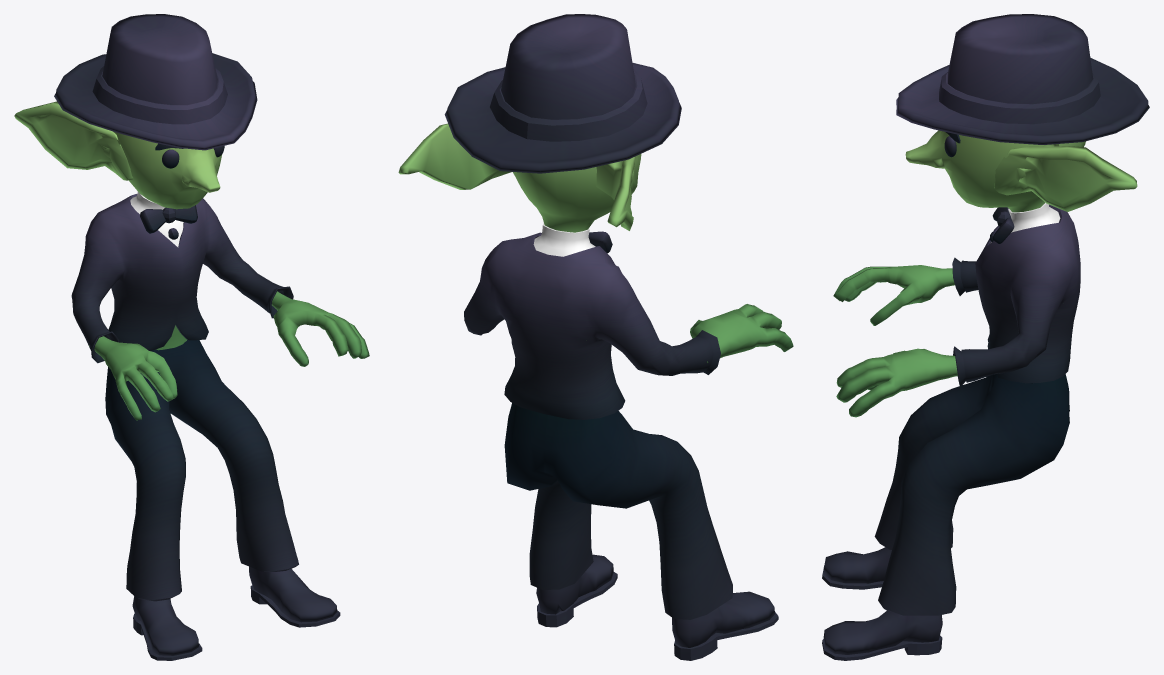
File: Goblin_M_Sitting_Mesh.fbx
The picture shows the model from 3 angles, left to right: view 1: azimuth 30°, elevation 25°; view 2: azimuth 150°, elevation 25°; view 3: azimuth 270°, elevation 25°; orthographic projection. The views are drawn at different scales.
Parts seen in each view (by area): view 1: GoblinM_Legs, GoblinM_Fedora, GoblinM_SuitJacket, GoblinM_Torso, GoblingM_ShoeL, GoblingM_ShoeR, GoblinM_Tie, GoblinM_Undershirt; view 2: GoblinM_Legs, GoblinM_Fedora, GoblinM_SuitJacket, GoblinM_Torso, GoblingM_ShoeR, GoblingM_ShoeL, GoblinM_Undershirt; view 3: GoblinM_Legs, GoblinM_Fedora, GoblinM_Torso, GoblinM_SuitJacket, GoblingM_ShoeL, GoblingM_ShoeR, GoblinM_Undershirt, GoblinM_Tie.
Part boxes in pixels (x1,y1,x2,y2): GoblinM_Legs: (105, 339, 298, 601); GoblinM_Fedora: (54, 14, 257, 150); GoblinM_SuitJacket: (71, 194, 293, 363); GoblinM_Torso: (14, 101, 369, 420); GoblingM_ShoeL: (249, 566, 340, 627); GoblingM_ShoeR: (132, 596, 202, 660); GoblinM_Tie: (140, 205, 197, 233); GoblinM_Undershirt: (130, 191, 183, 247); GoblinM_Legs: (504, 403, 732, 619); GoblinM_Fedora: (444, 14, 681, 173); GoblinM_SuitJacket: (464, 232, 720, 419); GoblinM_Torso: (398, 123, 793, 362); GoblingM_ShoeR: (672, 591, 778, 660); GoblingM_ShoeL: (536, 554, 617, 627); GoblinM_Undershirt: (533, 222, 595, 256); GoblinM_Legs: (874, 374, 1069, 615); GoblinM_Fedora: (896, 14, 1149, 144); GoblinM_Torso: (833, 130, 1137, 417); GoblinM_SuitJacket: (952, 204, 1080, 386); GoblingM_ShoeL: (822, 610, 942, 660); GoblingM_ShoeR: (822, 547, 891, 589); GoblinM_Undershirt: (990, 202, 1060, 243); GoblinM_Tie: (992, 207, 1014, 243).
Size of the model in its own units: 60.97 by 132 by 66.72.
1 material, 1 textured.
